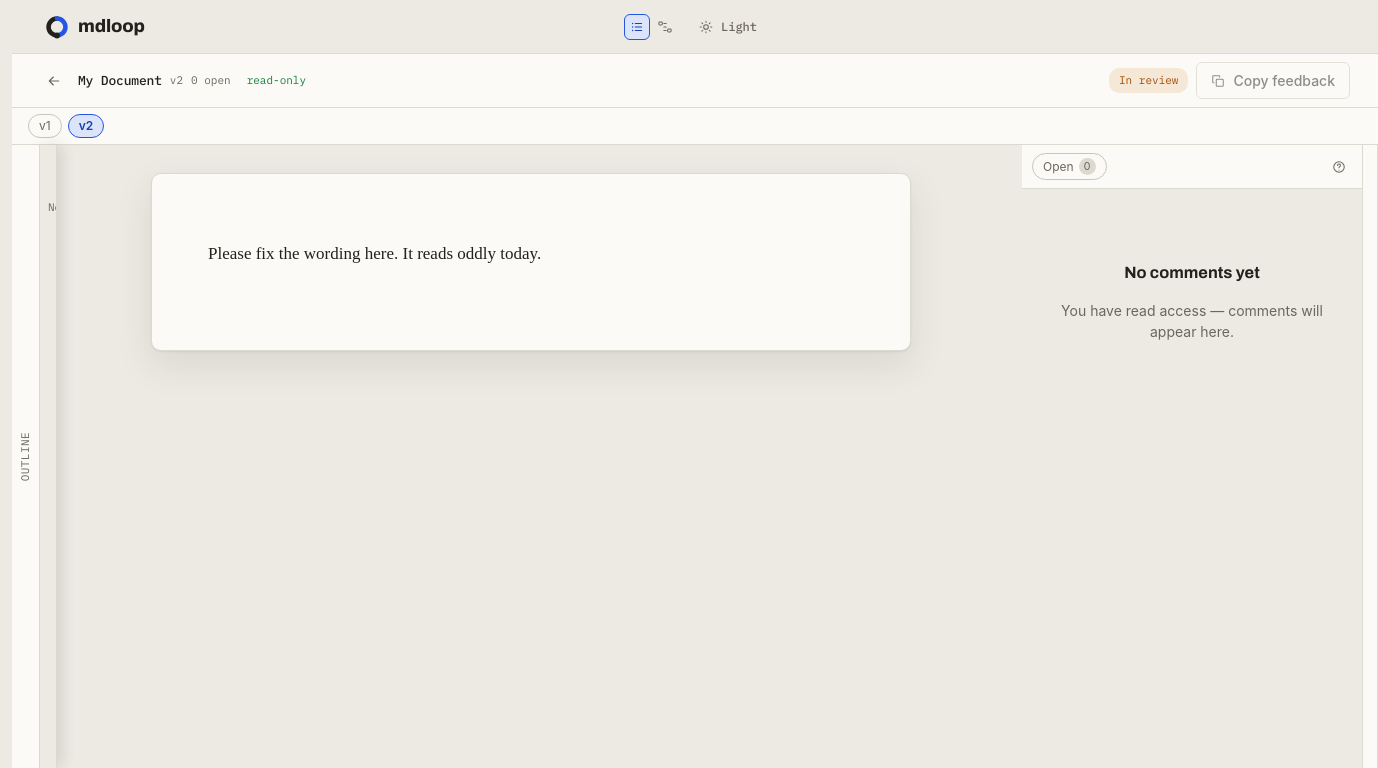
Test: Viewer — version notes (ADR 0003 §B) › appends the viewed version note to the read-only banner
What coordinates should you click on to do the following:
click the button "v1"
I would click on:
 (45, 126)
Its box is top-left (28, 114), bottom-right (62, 138).
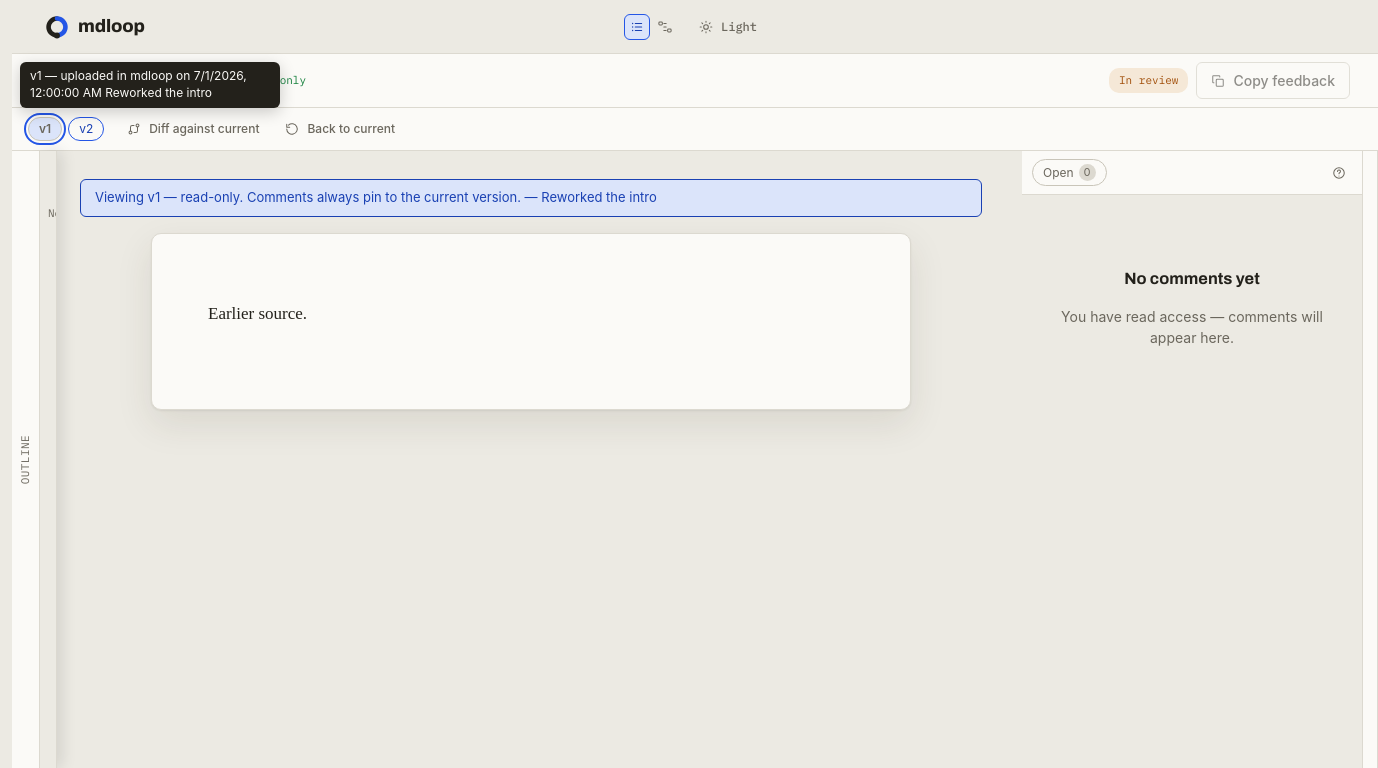
Expected: the text "Viewing v1" shows "Reworked the intro", top-left (521, 189), bottom-right (657, 205)
